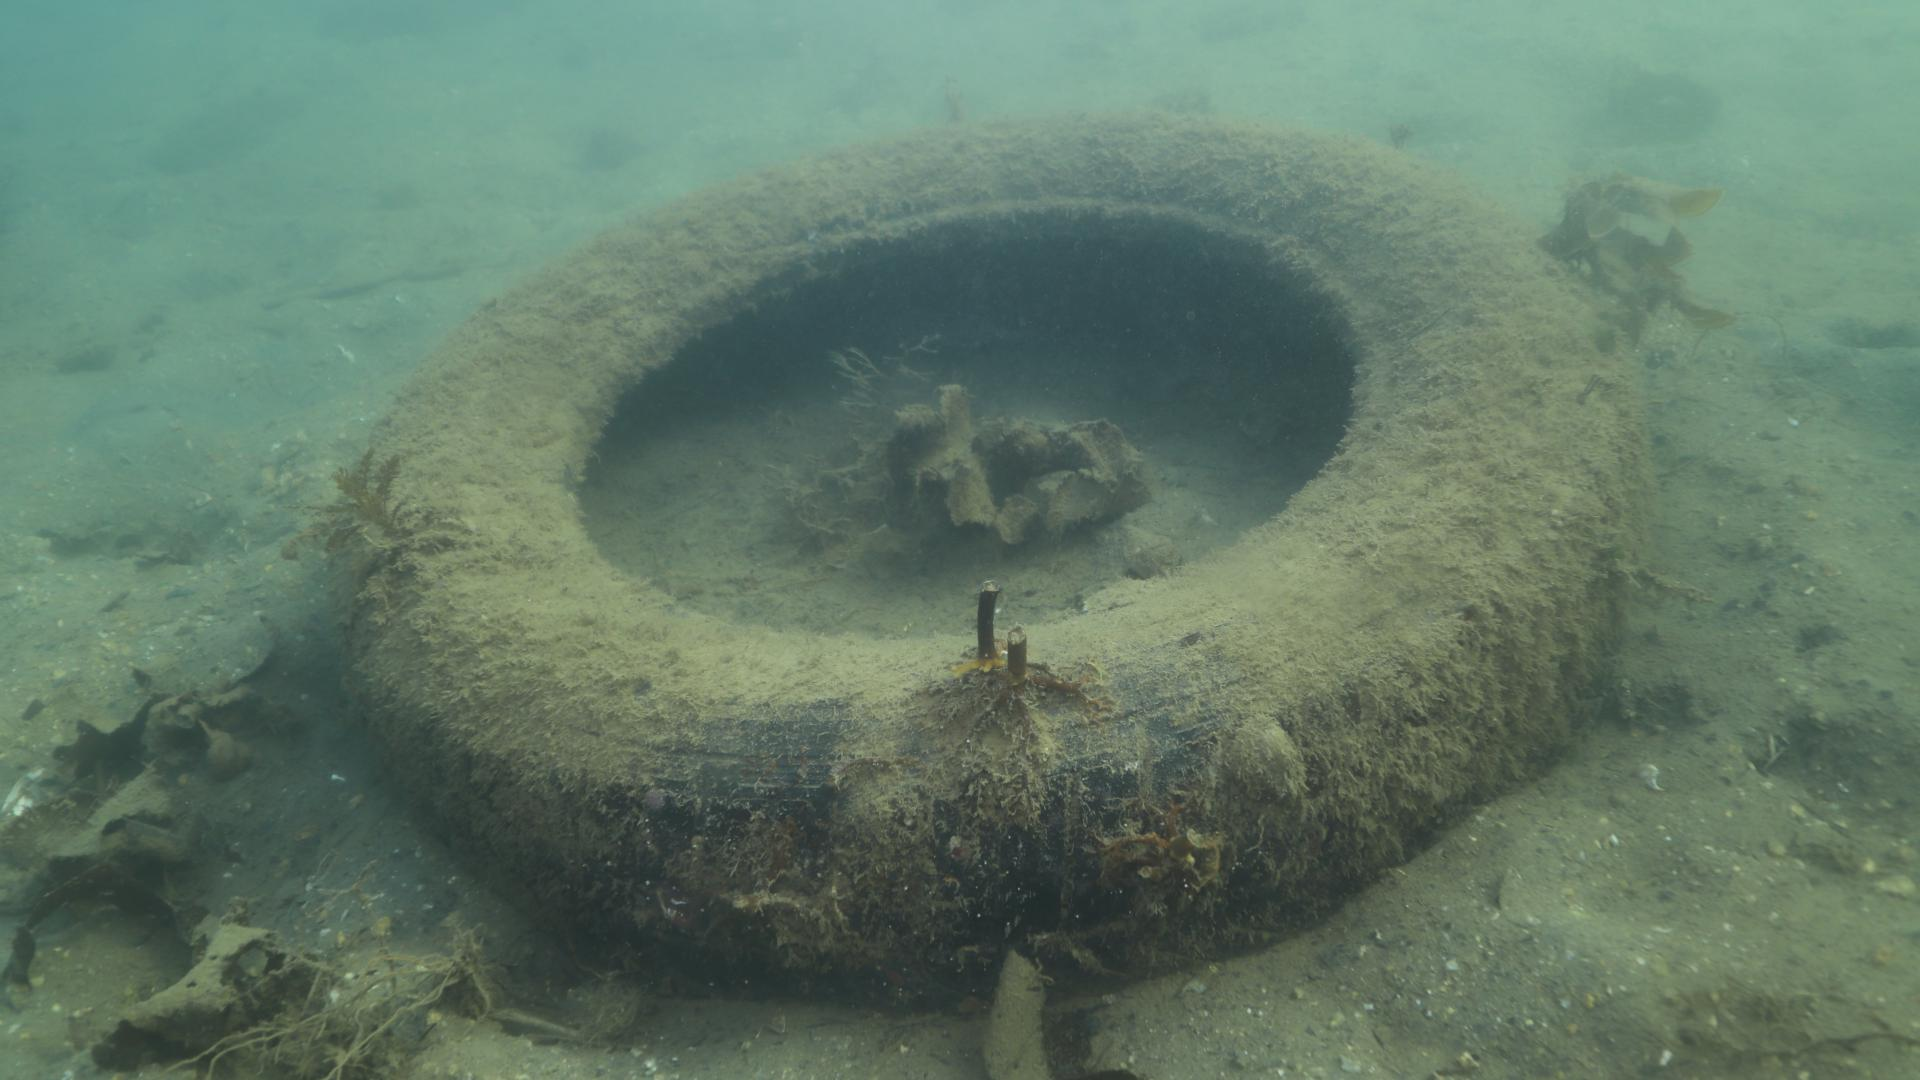tire: (334, 105, 1639, 1004)
